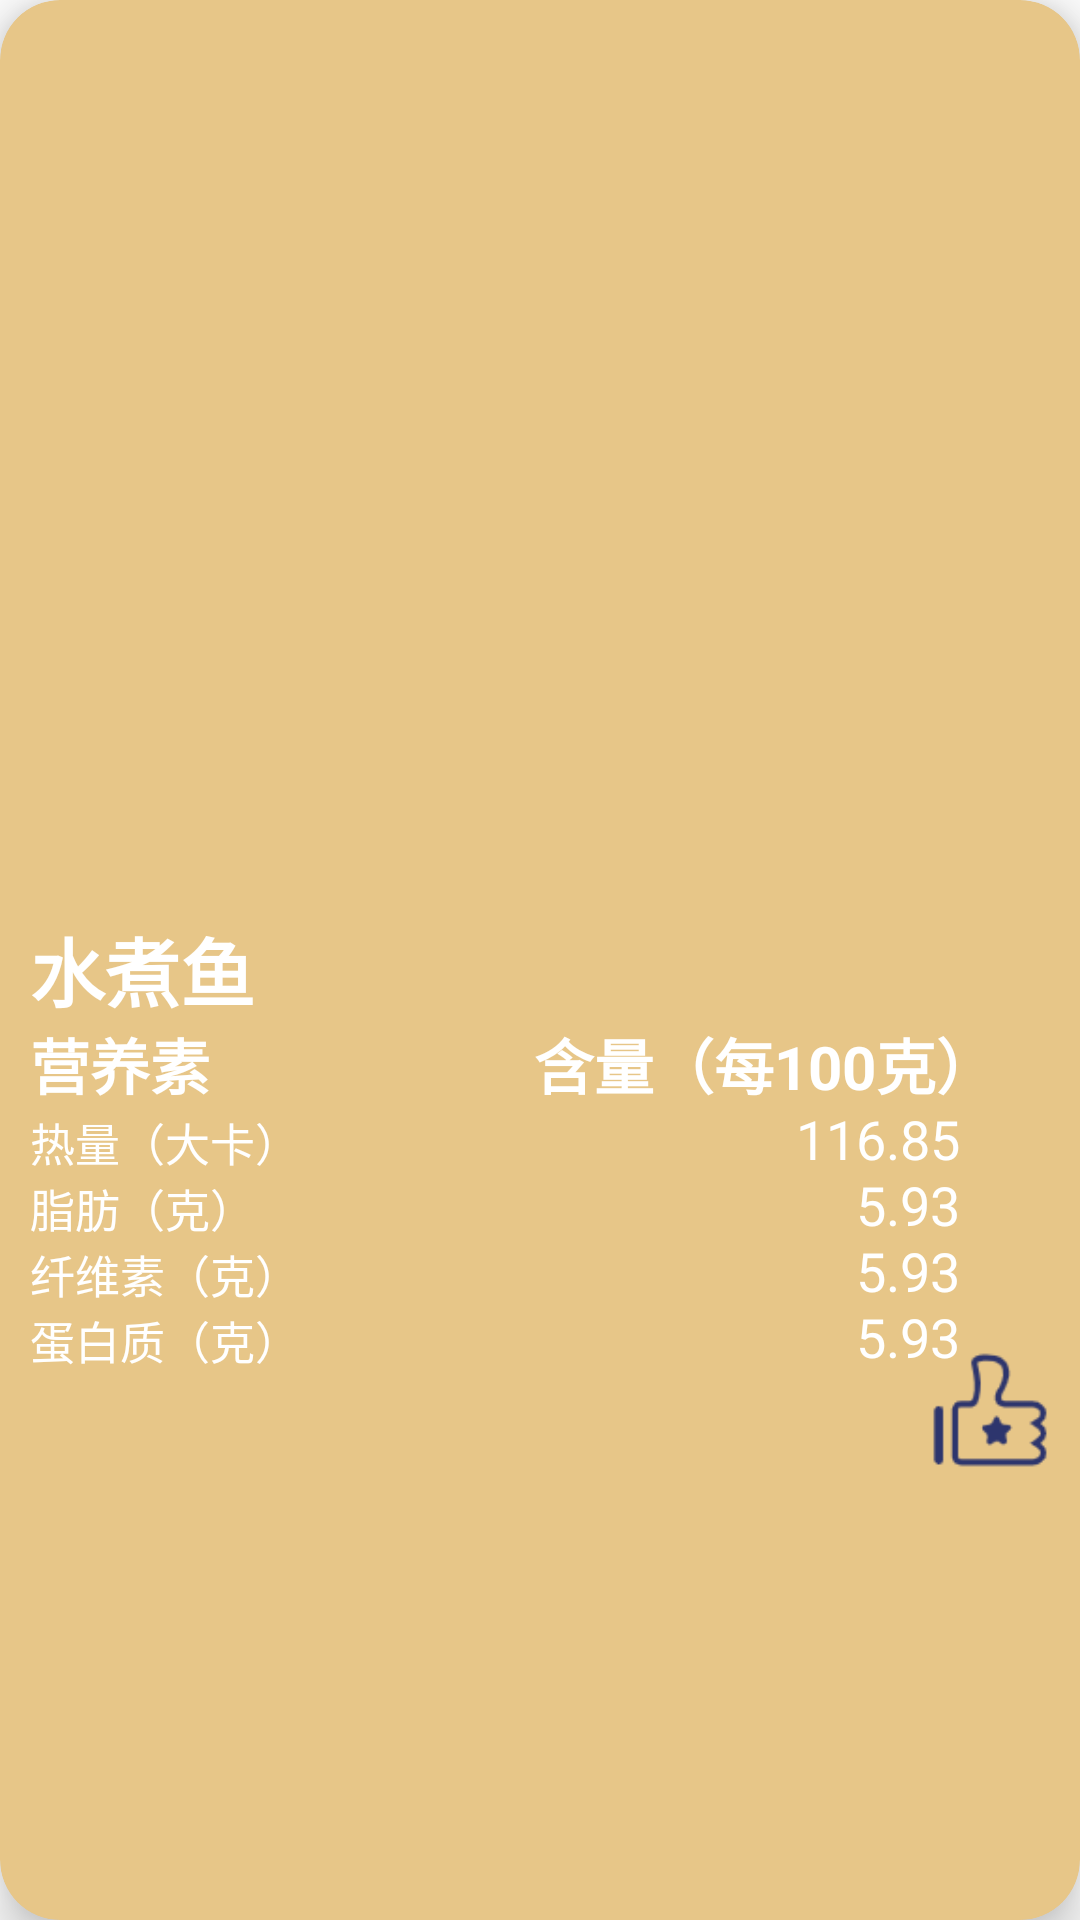

Point at icon controls on the screen. Image size 1080*1920, points as [x,y].
recommend: [990,1410]
